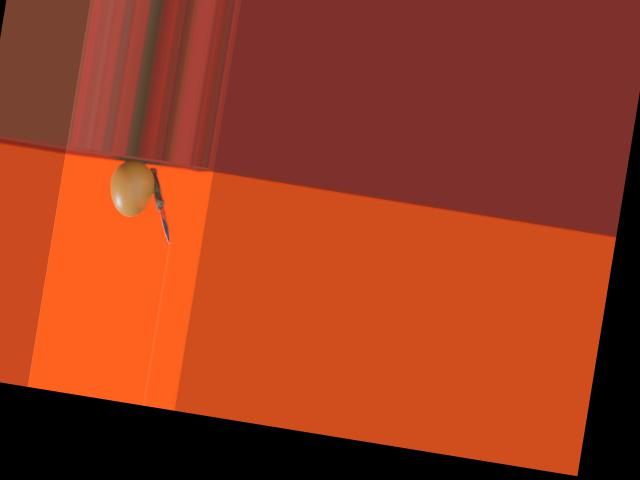egg: (107, 158, 157, 218)
